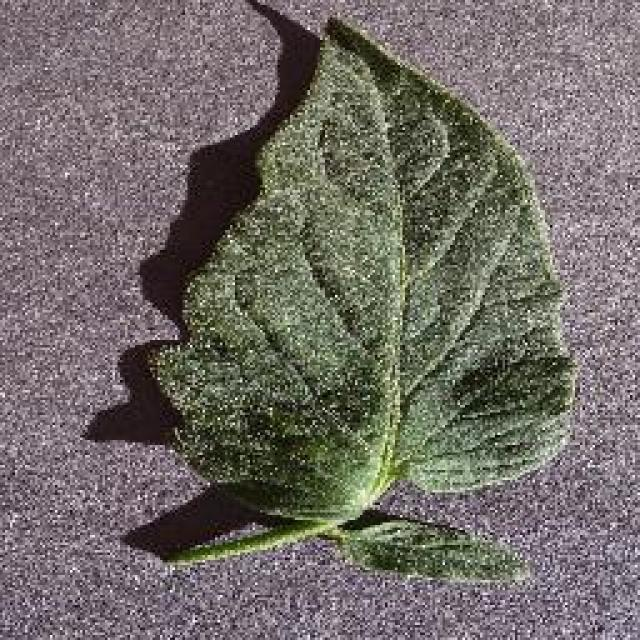Tomato___healthy: (146, 14, 579, 585)
